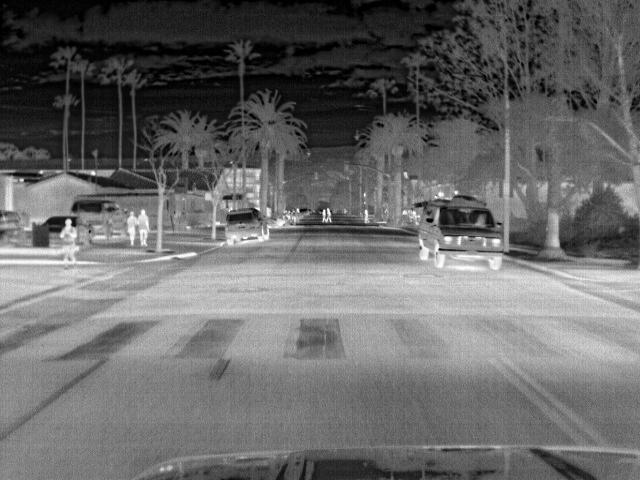car: (415, 199, 506, 271), (72, 196, 126, 239), (226, 207, 272, 245), (1, 211, 24, 247), (43, 213, 66, 246), (73, 216, 96, 243)
person: (58, 214, 80, 262), (138, 204, 152, 252), (126, 208, 140, 250), (360, 206, 372, 222), (321, 206, 328, 224), (328, 206, 335, 223)
